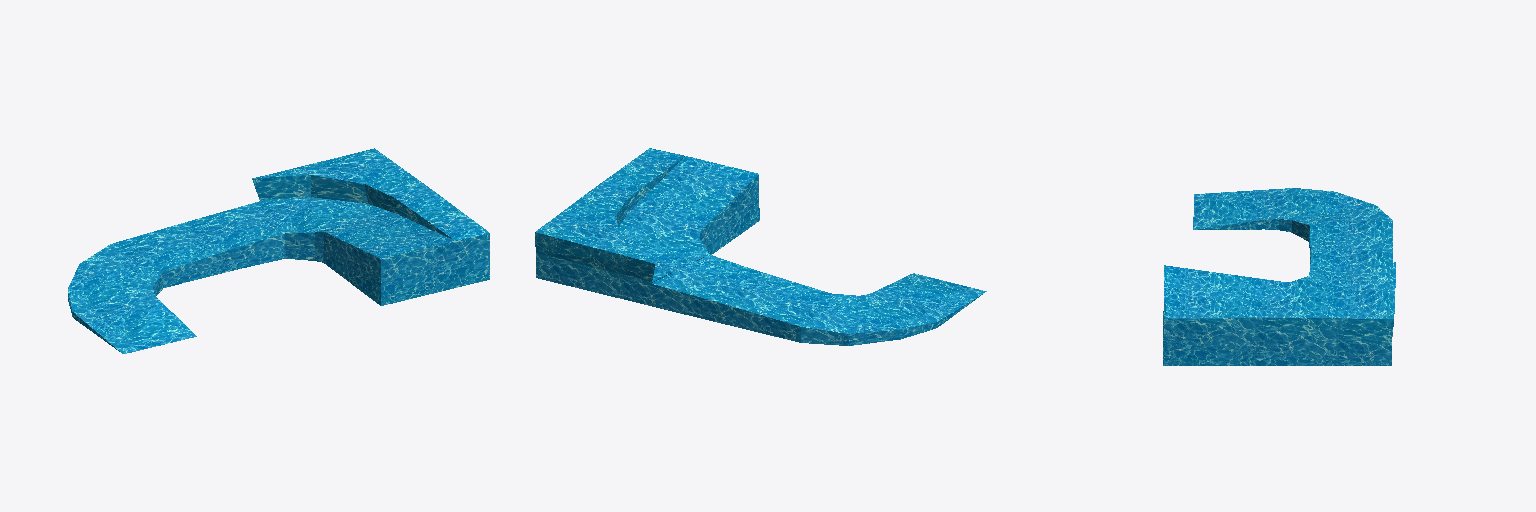
The picture shows the model from 3 angles: view 1: azimuth 30°, elevation 25°; view 2: azimuth 150°, elevation 25°; view 3: azimuth 270°, elevation 25°; orthographic projection.
Visible parts, largest first — view 1: SX_F1F; view 2: SX_F1F; view 3: SX_F1F.
Boxes of the visible parts, x1,y1,x2,y2 form: SX_F1F: [68, 148, 489, 353]; SX_F1F: [535, 148, 986, 345]; SX_F1F: [1163, 188, 1395, 365].
Bounding box in the file's own units: 36821 × 4823 × 21077.
Materials: 1 (1 with a texture image).